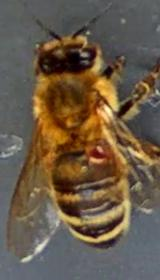varroa_mite: (82, 142, 123, 187)
